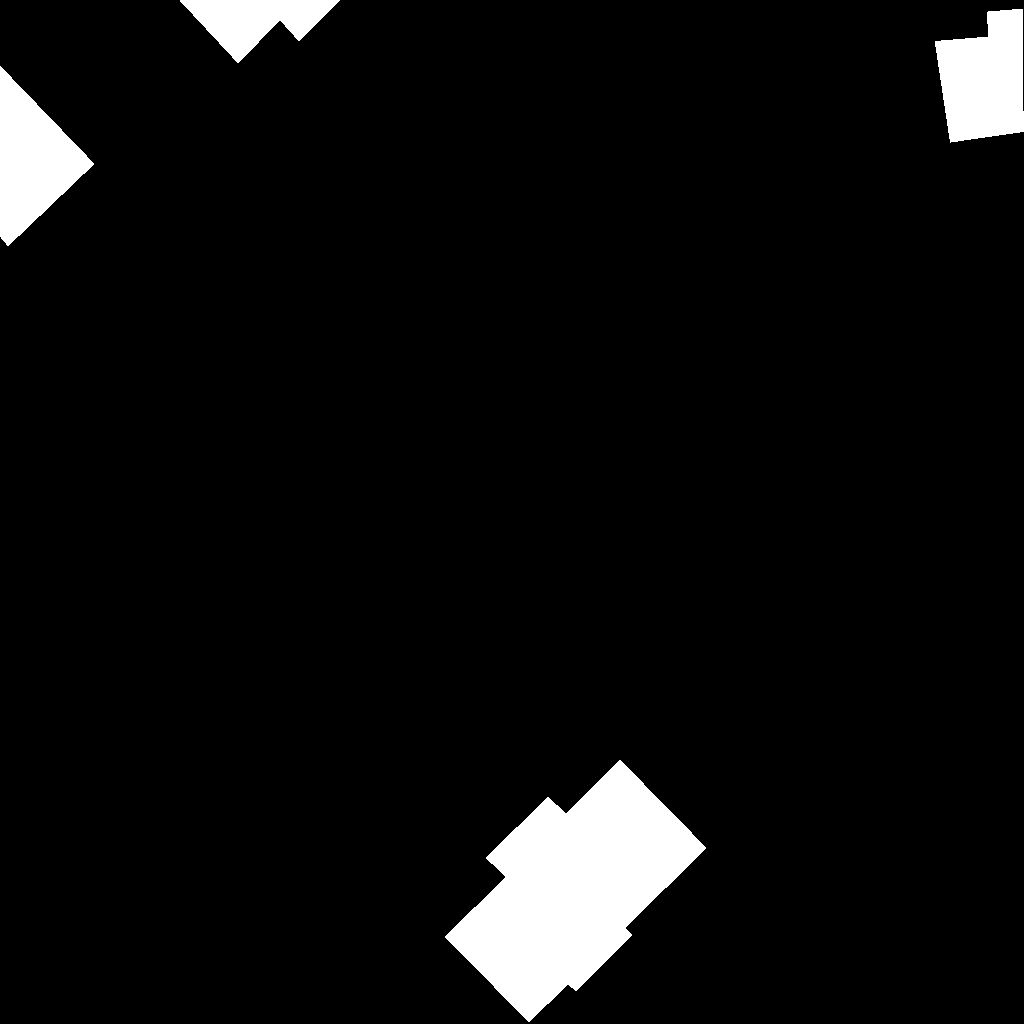building: (445, 760, 707, 1023), (0, 66, 95, 247), (935, 9, 1024, 143), (179, 0, 341, 64)
